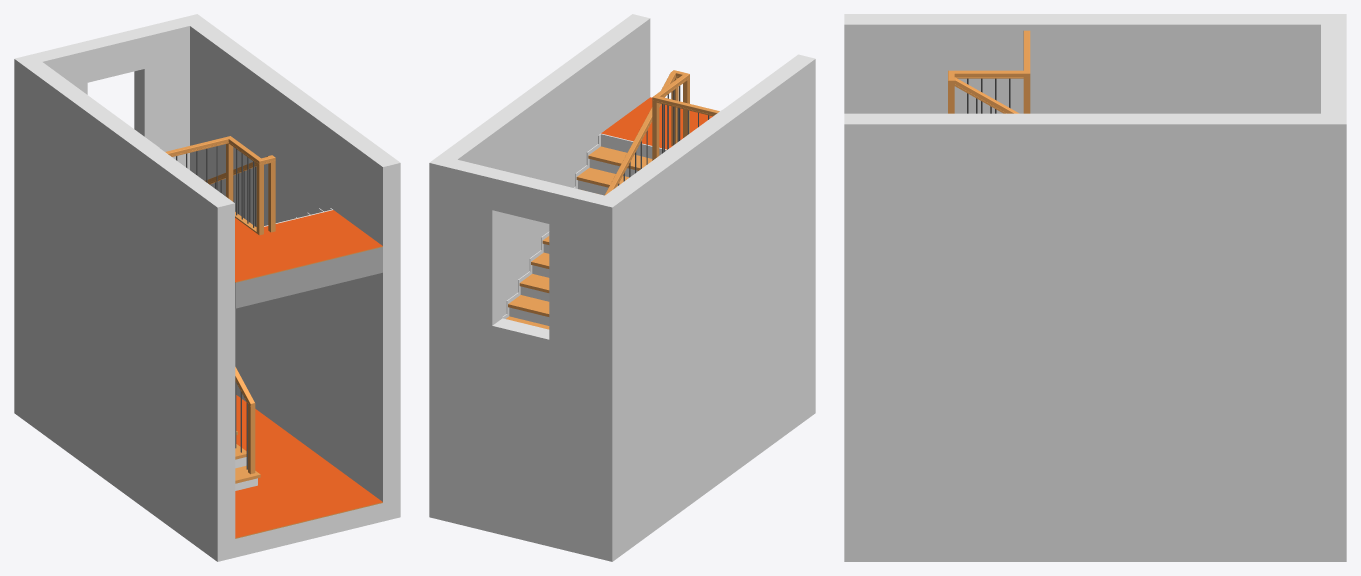
The model's file is ЛестницаМаксимДомодедово.obj.
3 renders of one model, left to right at view 1: azimuth 30°, elevation 25°; view 2: azimuth 150°, elevation 25°; view 3: azimuth 270°, elevation 25°, orthographic. The views are drawn at different scales.
Bounding box in the file's own units: 2.57 × 4.75 × 4.94.
